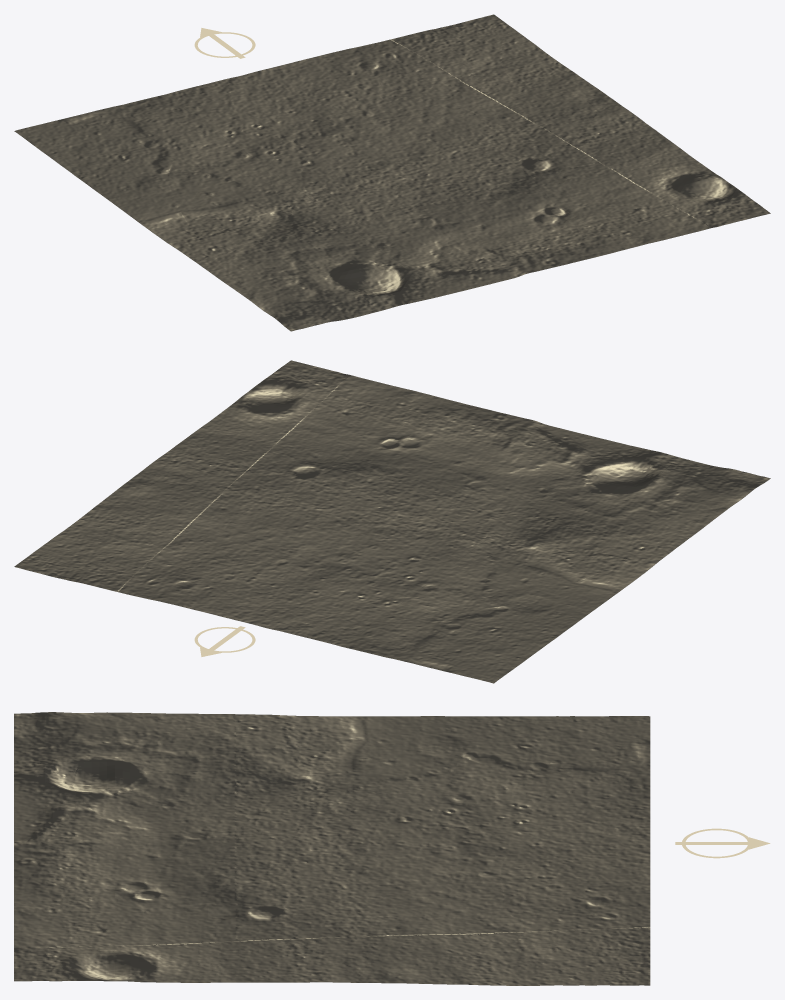
The model's file is oxia-planum-rosalind-franklin-landing-region.glb.
3 renders of one model, top to bottom at view 1: azimuth 30°, elevation 25°; view 2: azimuth 150°, elevation 25°; view 3: azimuth 270°, elevation 25°, orthographic. The views are drawn at different scales.
Visible parts, largest first — view 1: Oddscape_Terrain_v221_GLB; view 2: Oddscape_Terrain_v221_GLB; view 3: Oddscape_Terrain_v221_GLB.
Part boxes in pixels (x1,y1,x2,y2): Oddscape_Terrain_v221_GLB: (14,14,770,331); Oddscape_Terrain_v221_GLB: (14,360,770,683); Oddscape_Terrain_v221_GLB: (14,712,770,985).
Size of the model in its own units: 4 by 0.0676 by 4.76.
2 materials, 1 textured.
